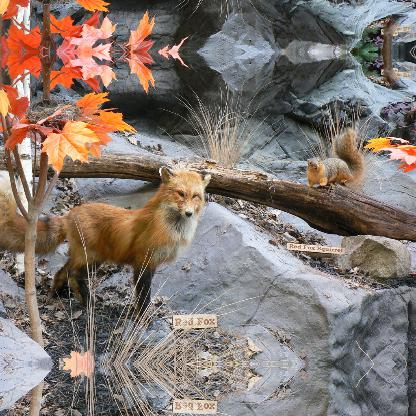Squirrel: (306, 127, 366, 187)
